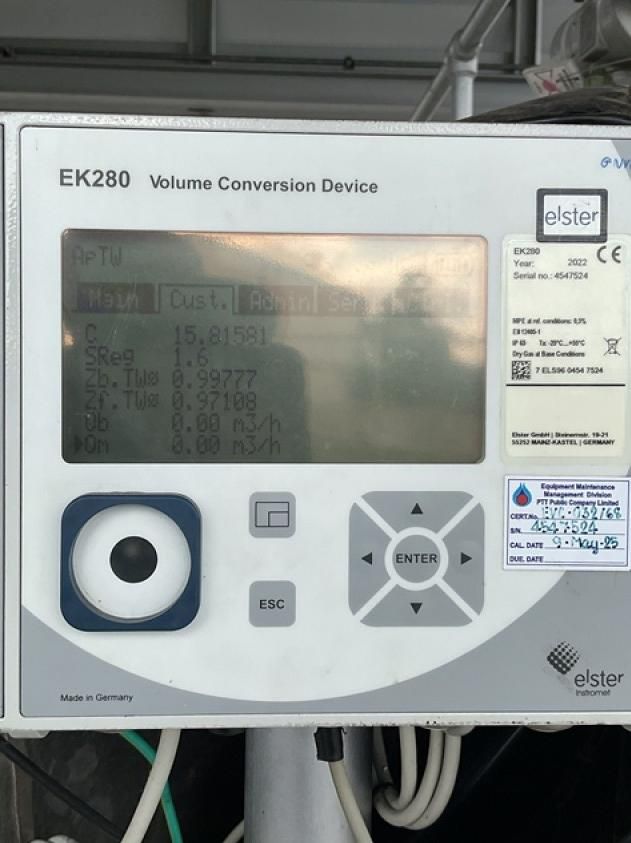digital_screen: (63, 231, 486, 462)
